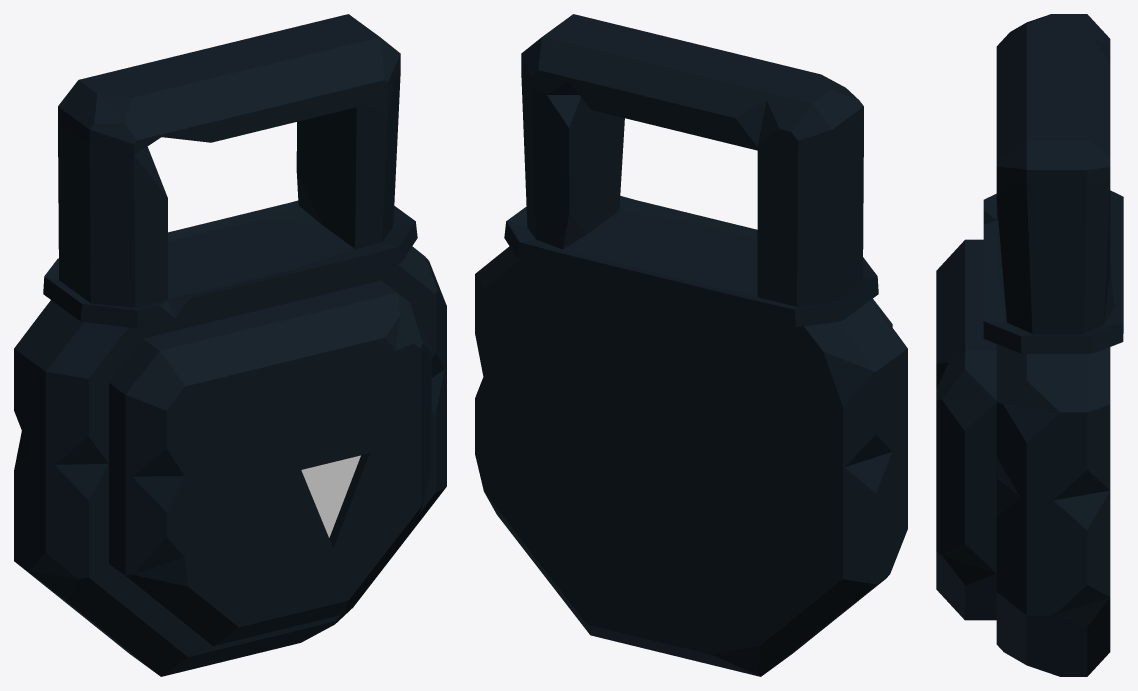
Rendered from black_lock.glb.
3 renders of one model, left to right at view 1: azimuth 30°, elevation 25°; view 2: azimuth 150°, elevation 25°; view 3: azimuth 270°, elevation 25°, orthographic. The views are drawn at different scales.
Visible parts, largest first — view 1: Circle.027; view 2: Circle.027; view 3: Circle.027.
Boxes of the visible parts, <box> form: Circle.027: <box>14,14,446,676</box>; Circle.027: <box>475,14,907,676</box>; Circle.027: <box>936,14,1123,676</box>.
Bounding box in the file's own units: 2 × 2.79 × 0.8475.
Materials: 1 (1 with a texture image).
